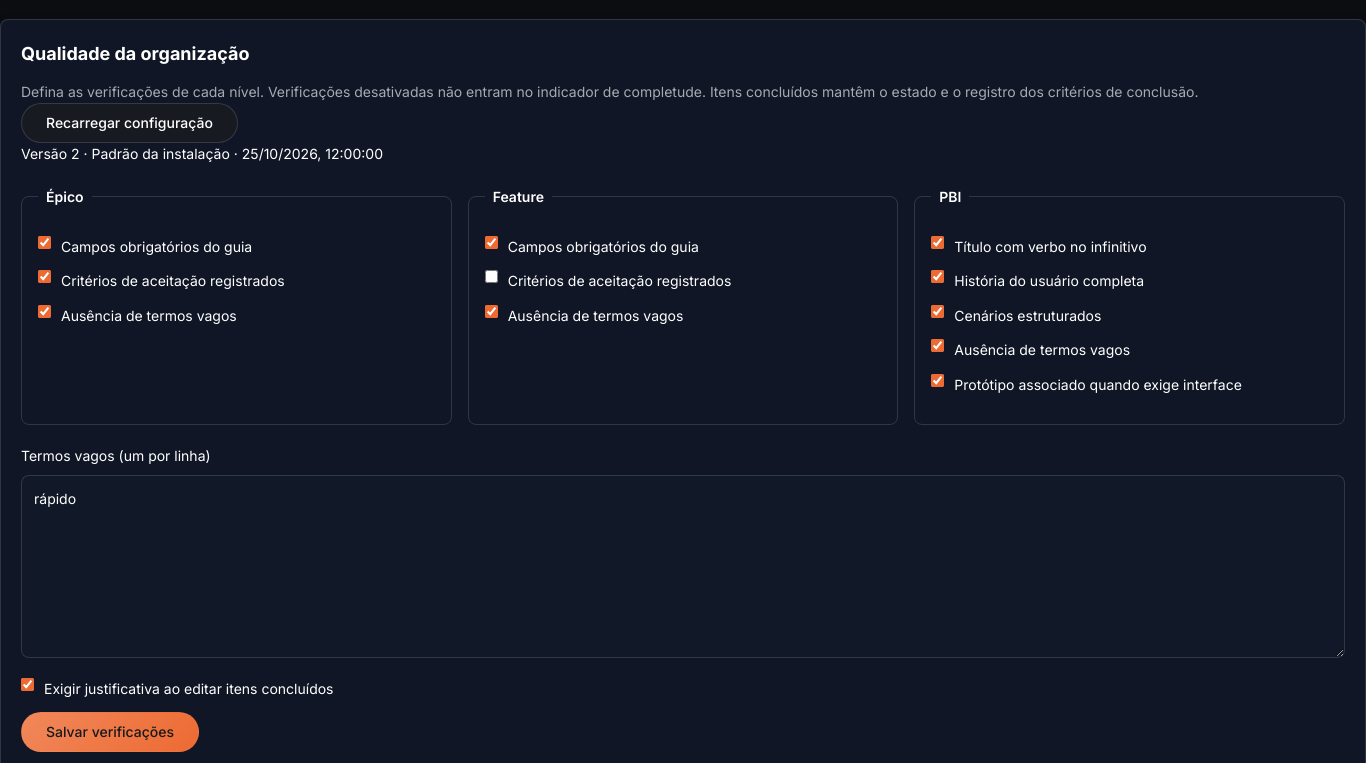
Test: mantém o formulário quando o serviço falha e permite nova tentativa
The width and height of the screenshot is (1366, 763).
Expected: the element "PBI" is shown, x1=914 y1=186 x2=1345 y2=425
Step 1. Replace the text in the text box labelled "Termos vagos (um por linha)" with "novo termo" → (683, 567), box x1=21 y1=475 x2=1345 y2=658
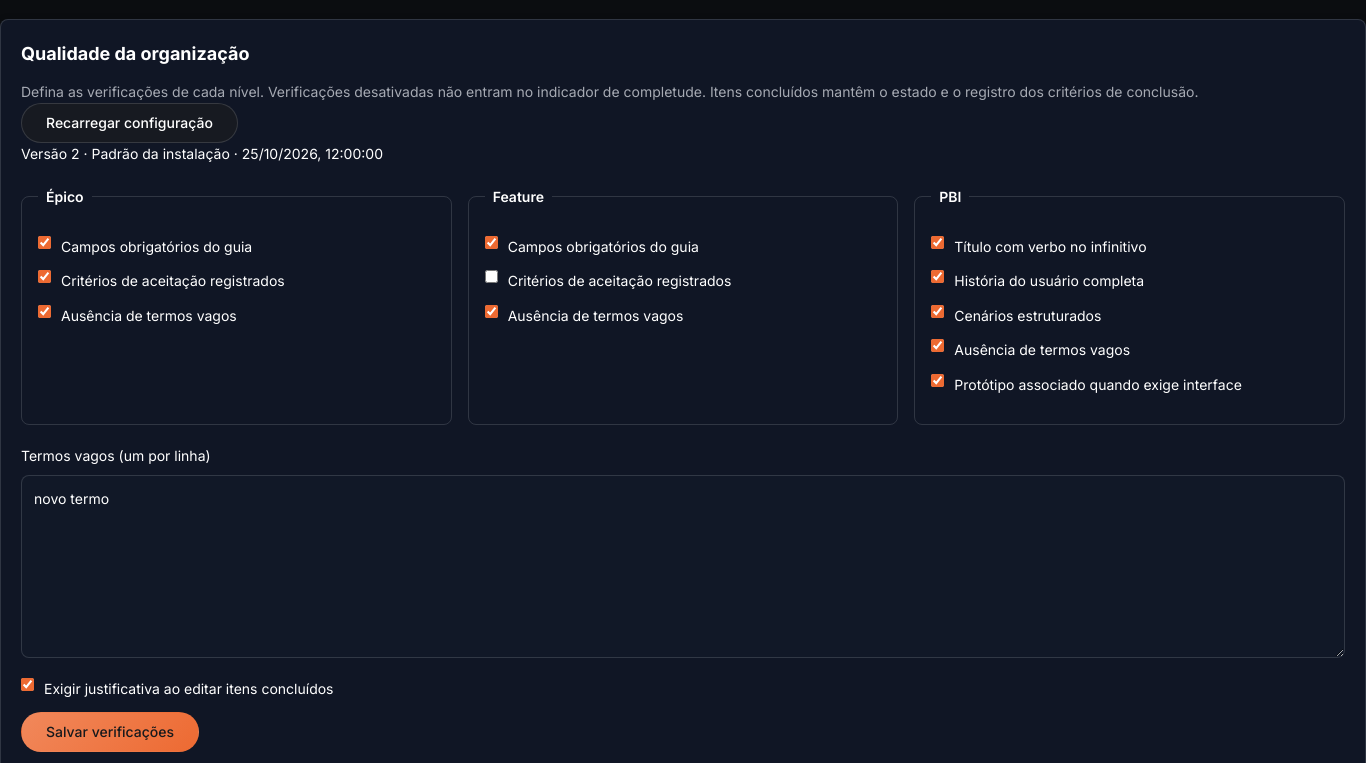
Step 2. Click the button "Salvar verificações" → (110, 732), box x1=21 y1=712 x2=199 y2=752
(page scrolled)
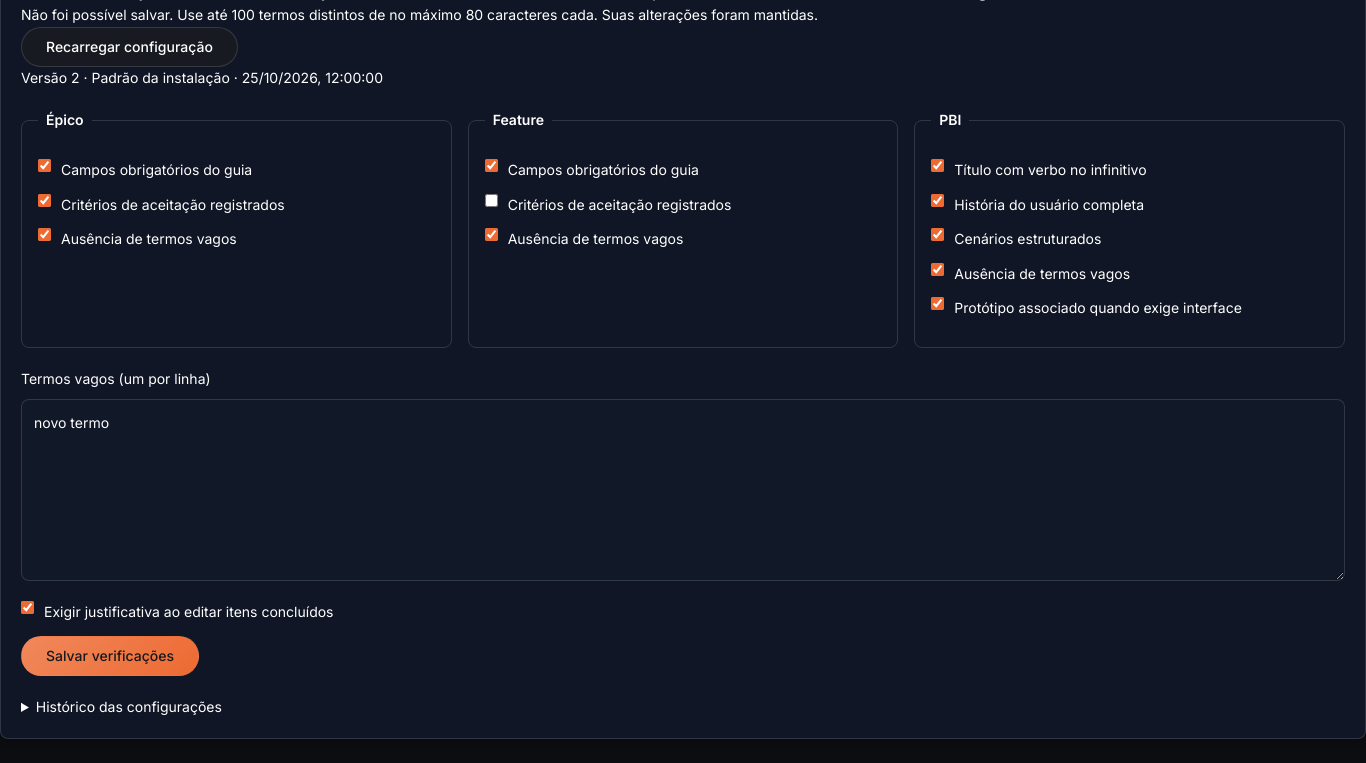
Expected: the button "Salvar verificações" is enabled, x1=21 y1=636 x2=199 y2=676
Result: the message is shown at x1=21 y1=6 x2=818 y2=23
